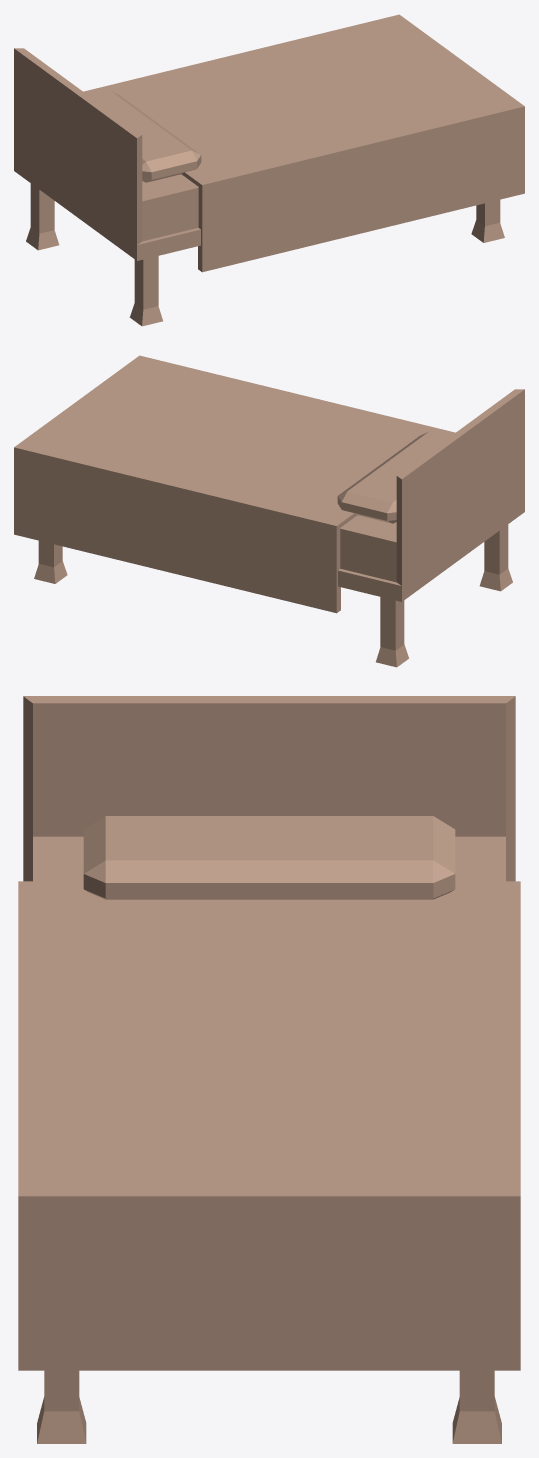
Rendered from Bed.fbx.
3 renders of one model, top to bottom at view 1: azimuth 30°, elevation 25°; view 2: azimuth 150°, elevation 25°; view 3: azimuth 270°, elevation 25°, orthographic. The views are drawn at different scales.
Visible parts, largest first — view 1: Bed; view 2: Bed; view 3: Bed.
Part boxes in pixels (left/top/right/bottom): Bed: left=14, top=14, right=524, bottom=326; Bed: left=14, top=355, right=524, bottom=667; Bed: left=18, top=696, right=520, bottom=1443.
Size of the model in its own units: 279 by 133 by 157.
